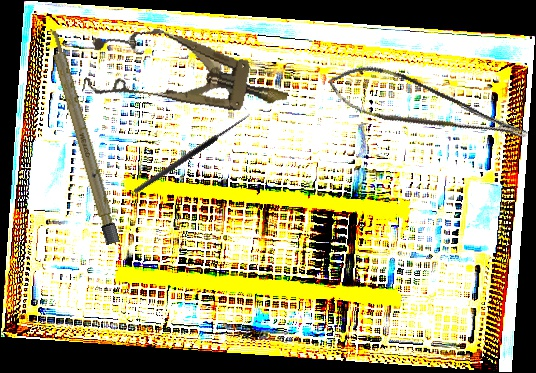Hook Surgical: (129, 106, 252, 195)
Micro Scissor: (320, 48, 532, 175)
Scalpel Handle: (45, 26, 120, 246)
Speculum: (81, 16, 296, 136)
